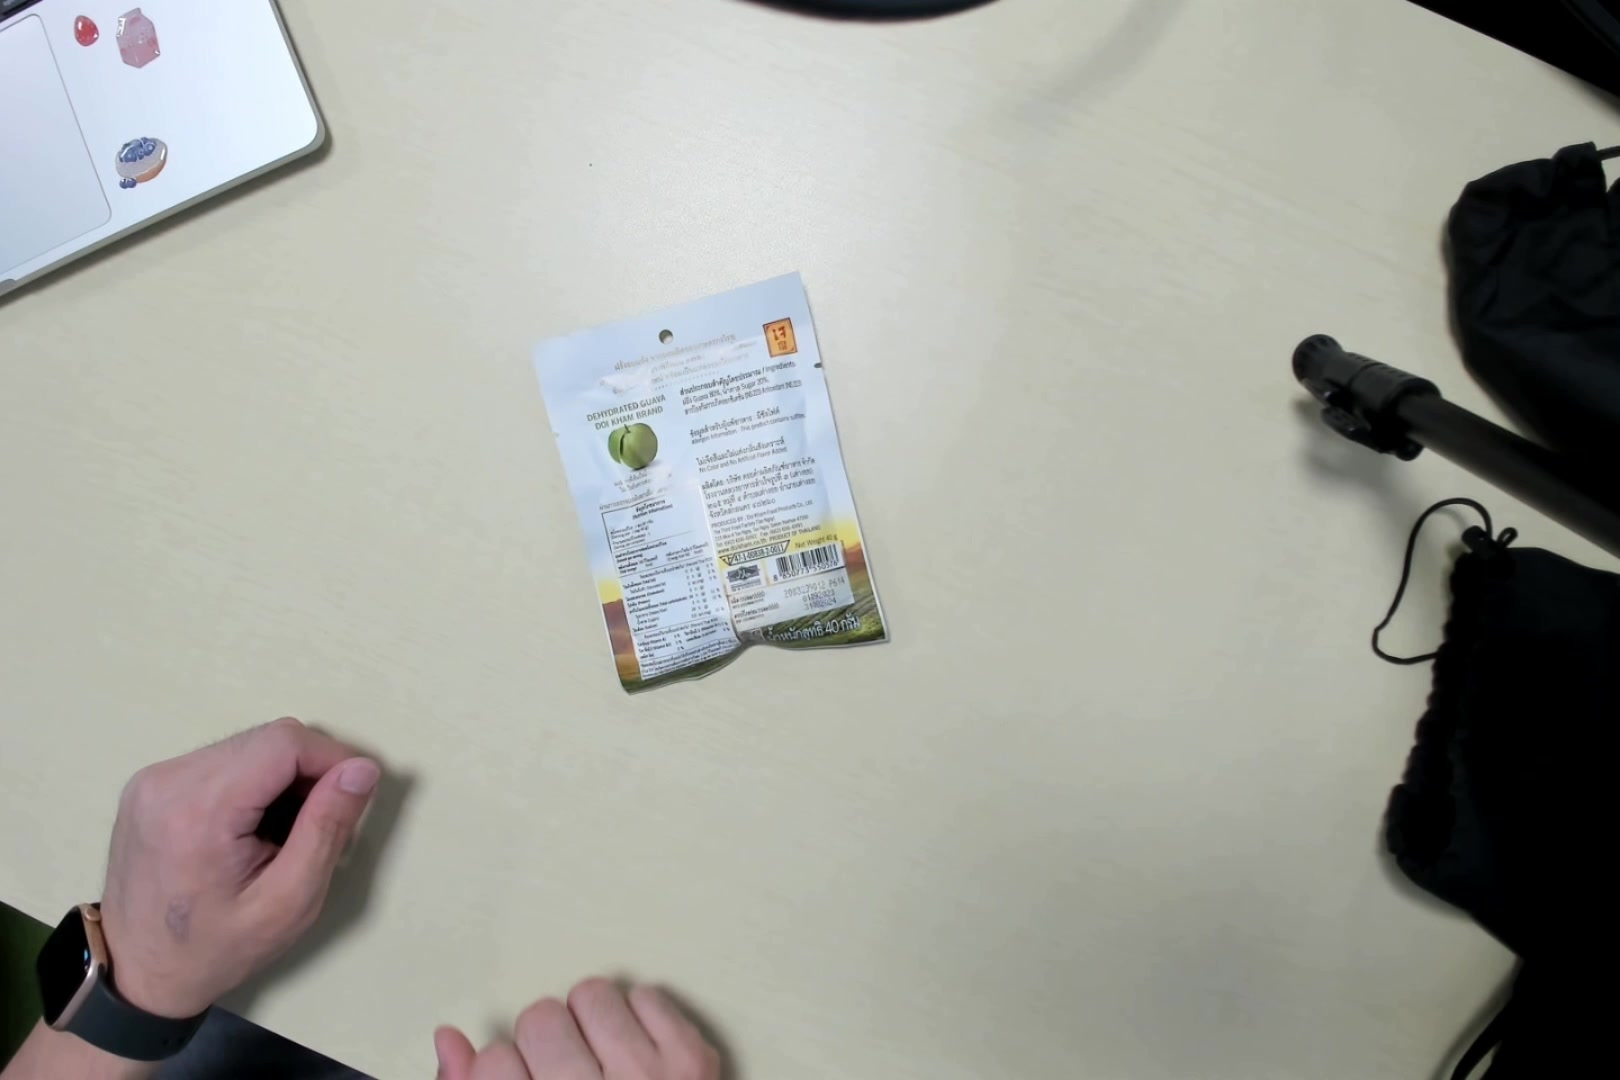DriedFruits_0-99g_Halal_NonHealthy: (545, 275, 893, 706)
